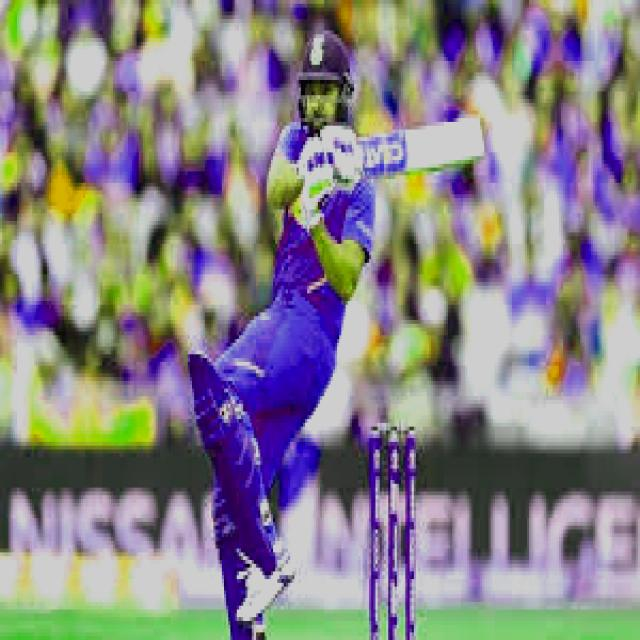toe: (460, 114, 490, 162)
